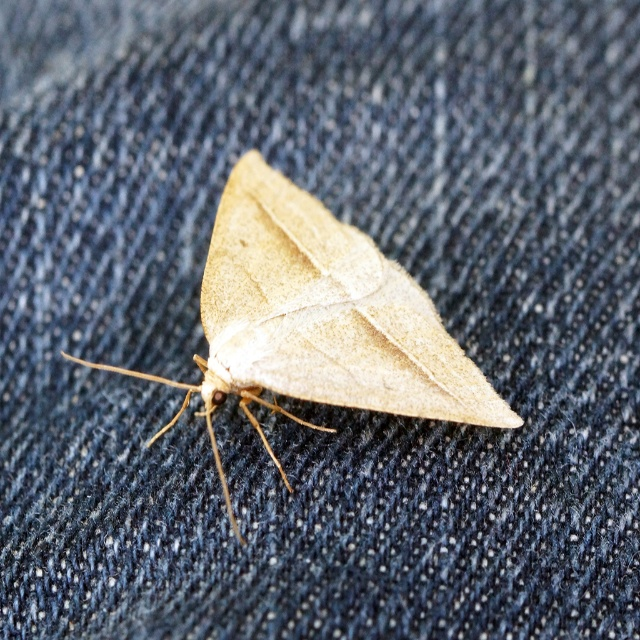Moths and butterflies: (58, 148, 529, 547)
